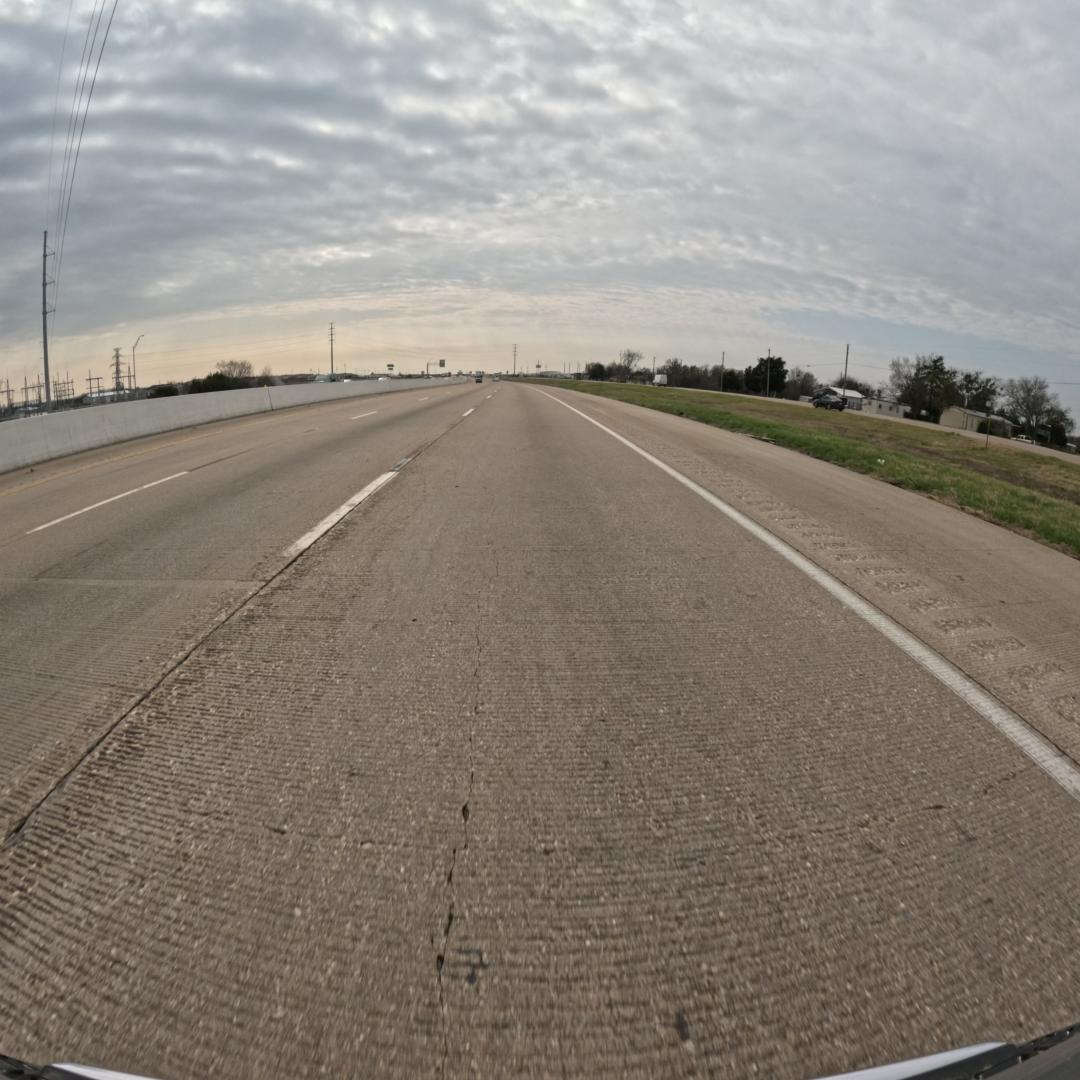lane0: (0, 386, 1080, 1077)
lane1: (0, 385, 489, 844)
